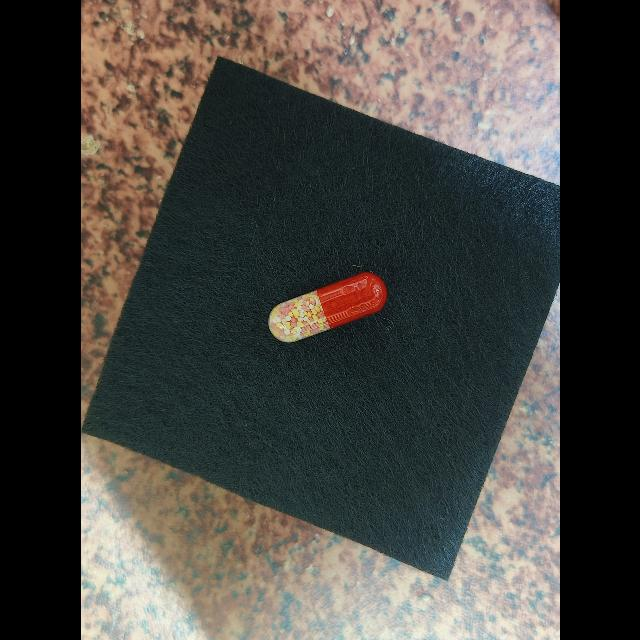Intact Capsule: (267, 272, 387, 342)
